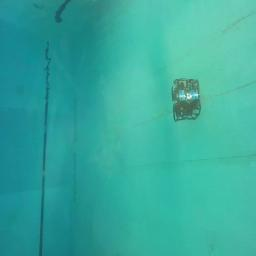front: (172, 94, 200, 122)
